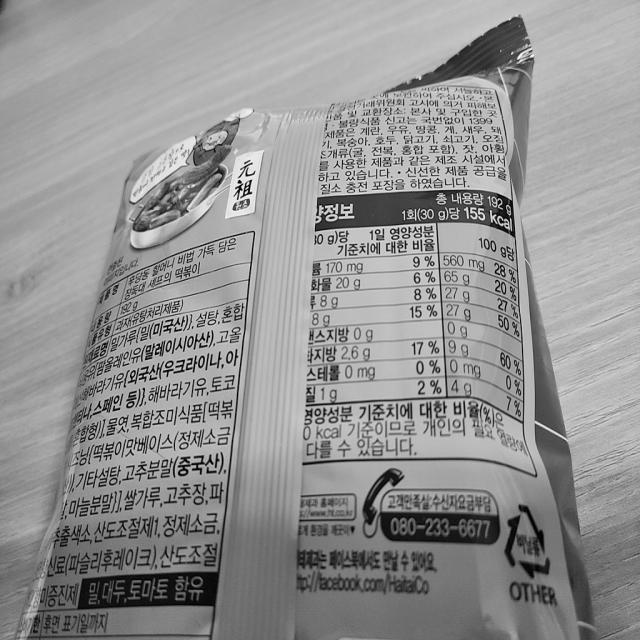Nutrition Label: (295, 184, 544, 485)
